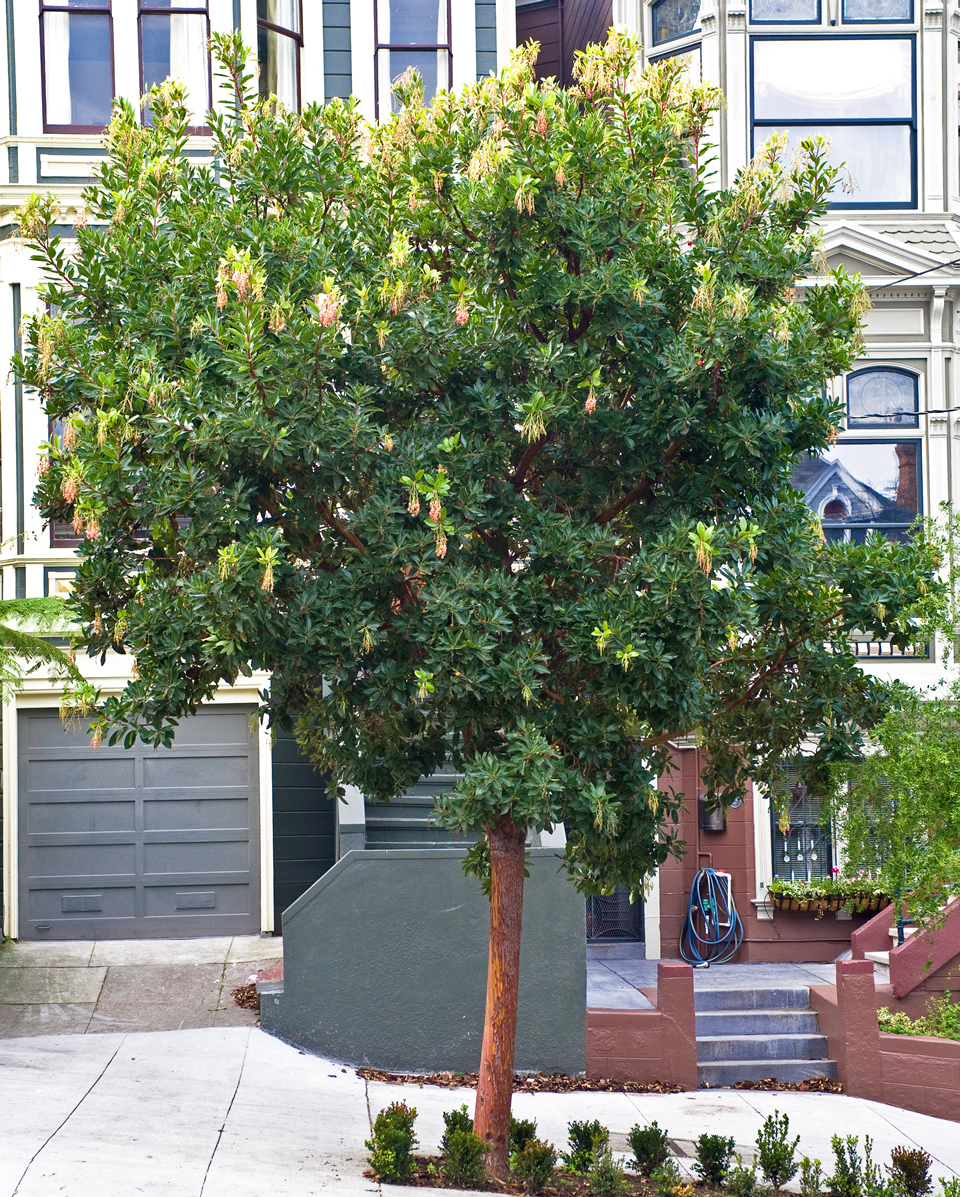tree: (6, 28, 912, 1186)
